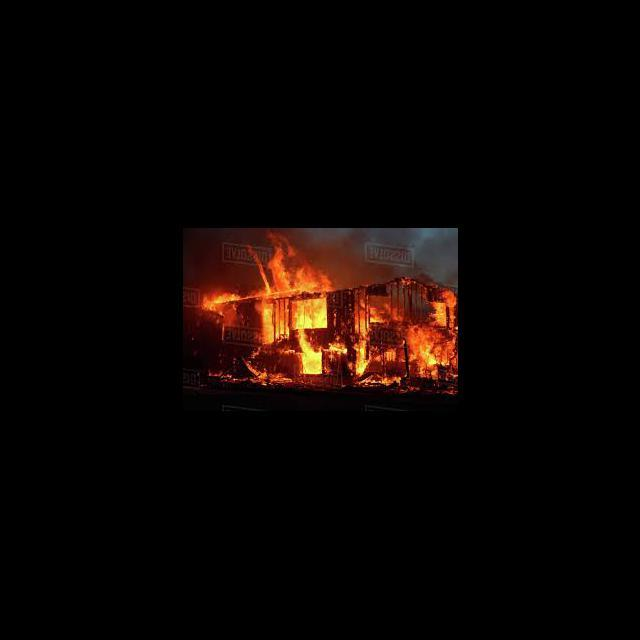Fire: (200, 276, 454, 390), (246, 231, 308, 278)
Smoke: (418, 230, 456, 272), (312, 234, 361, 262)
